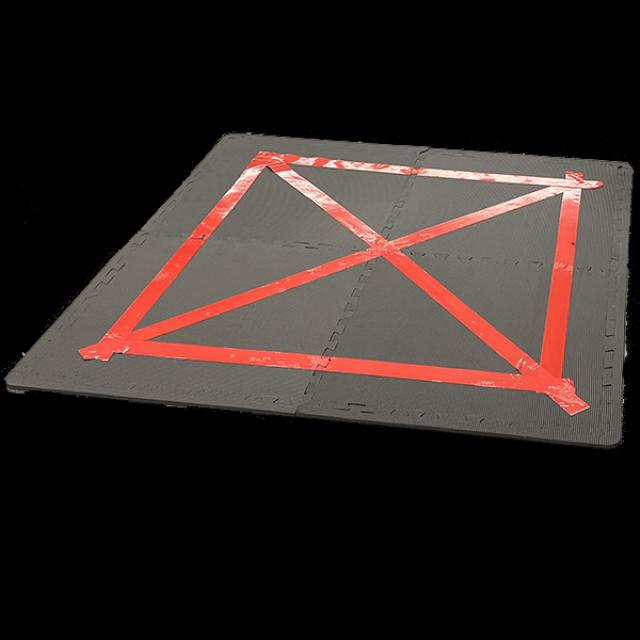landingPads: (4, 133, 636, 447)
